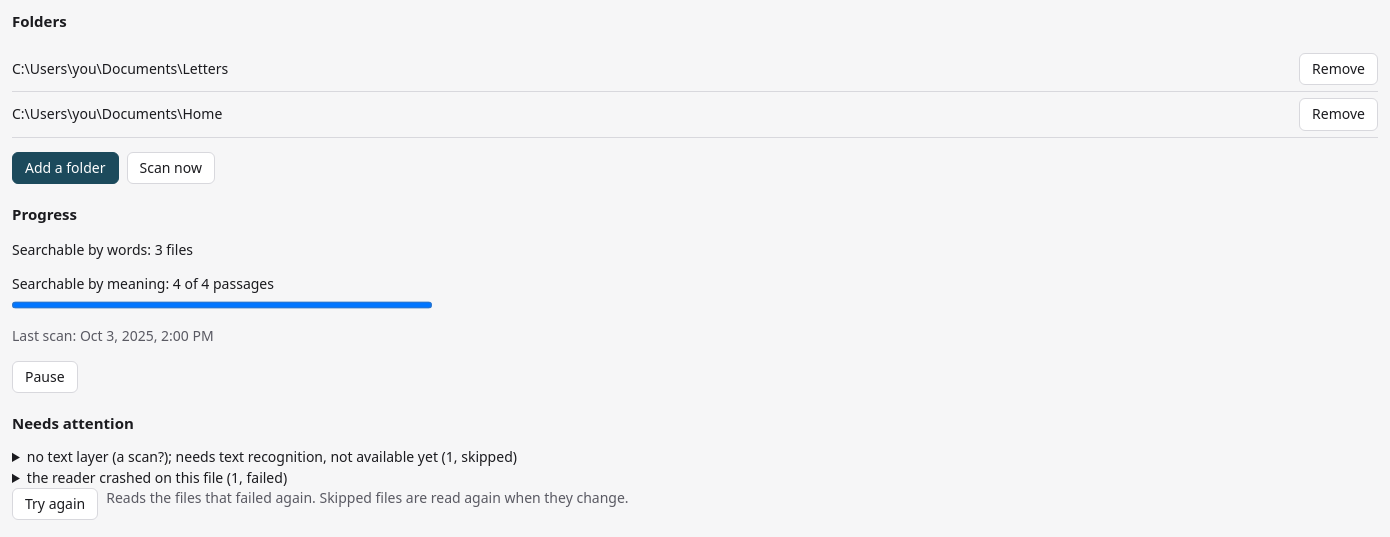
the library screen › keeps the keyboard in place around a confirmation
Step 1. Click the button "Remove" in the row of "C:\\Users\\you\\Documents\\Letters" → [1339, 69], box [1299,53,1378,86]
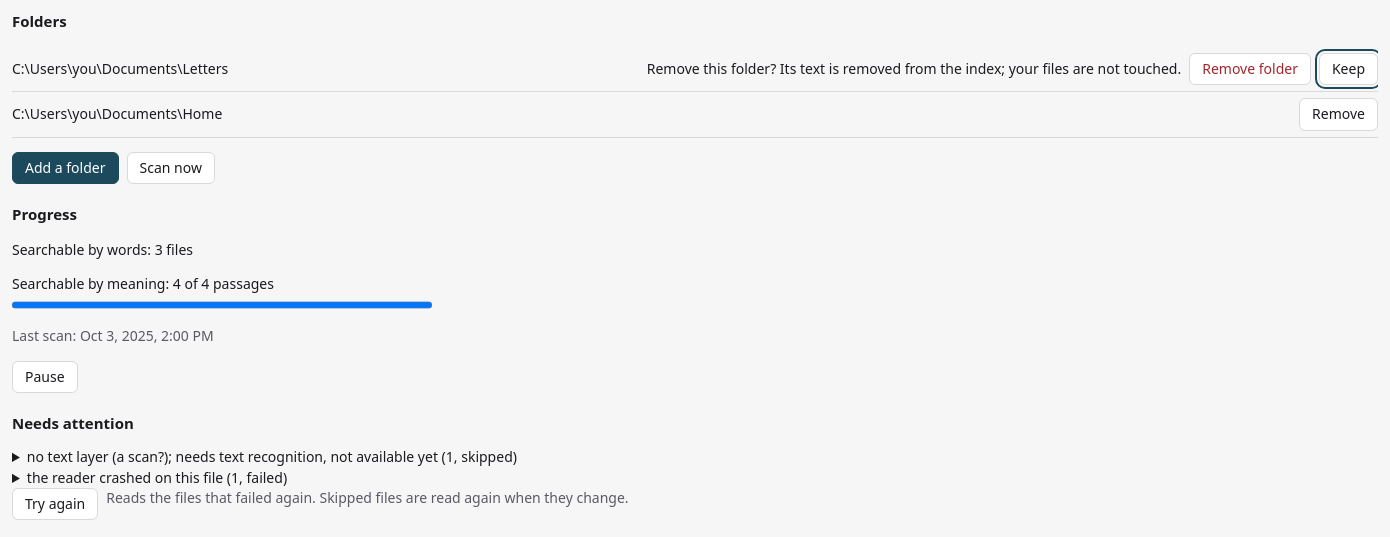
Expected: the button "Keep" has attribute aria-describedby
Note: Escape calls it off, and the focus goes back where it came from.
Step 2. Press Escape in the button "Keep", box [1319,53,1378,86]
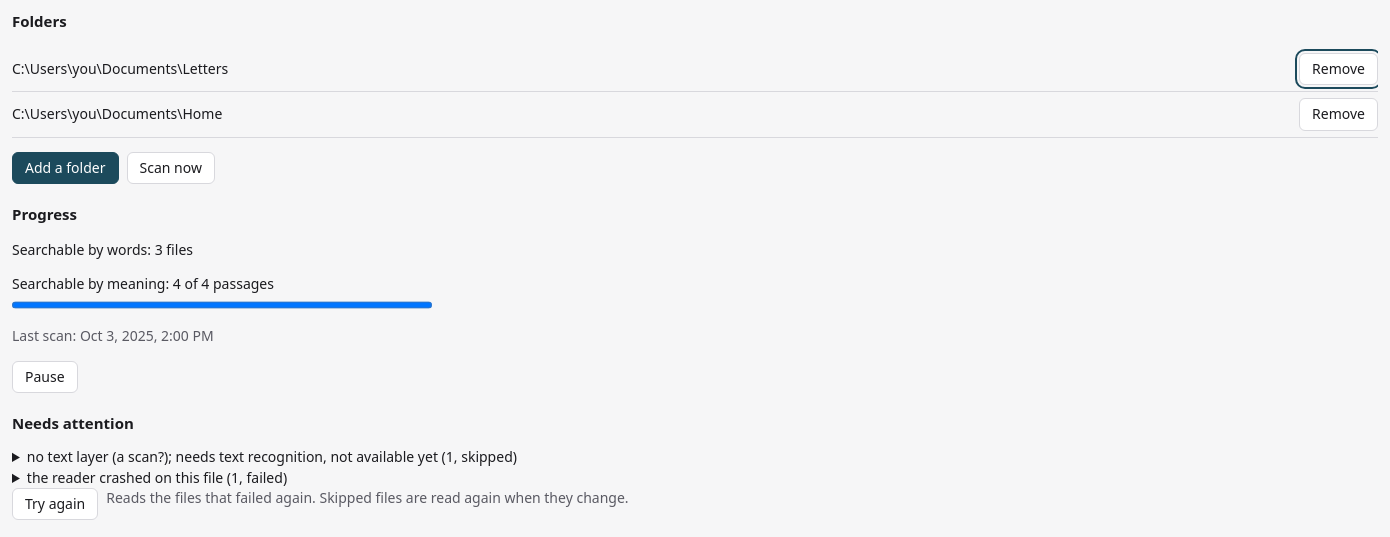
Expected: the button "Keep" is gone
